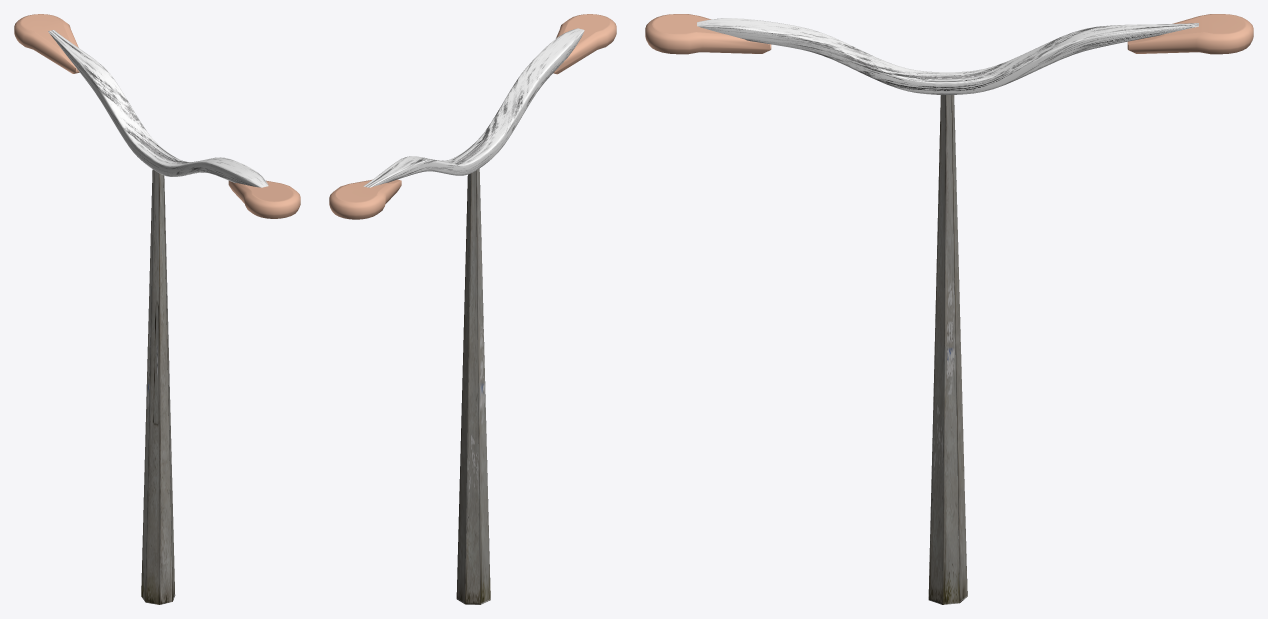
Rendered from light.glb.
3 views of the same model, side by side, from view 1: azimuth 30°, elevation 25°; view 2: azimuth 150°, elevation 25°; view 3: azimuth 270°, elevation 25° (orthographic). The views are drawn at different scales.
Visible parts, largest first — view 1: Poll_4, Light Stend_3, 2 Right Side Light_1, 1 Left side Light_0; view 2: Poll_4, Light Stend_3, 2 Right Side Light_1, 1 Left side Light_0; view 3: Poll_4, Light Stend_3, 2 Right Side Light_1, 1 Left side Light_0.
Part boxes in pixels (bbox=[...]): Poll_4: bbox=[141, 169, 175, 604]; Light Stend_3: bbox=[48, 30, 268, 187]; 2 Right Side Light_1: bbox=[14, 14, 79, 73]; 1 Left side Light_0: bbox=[228, 180, 300, 218]; Poll_4: bbox=[456, 168, 490, 604]; Light Stend_3: bbox=[363, 28, 584, 187]; 2 Right Side Light_1: bbox=[329, 179, 401, 219]; 1 Left side Light_0: bbox=[553, 14, 616, 74]; Poll_4: bbox=[928, 95, 967, 604]; Light Stend_3: bbox=[697, 18, 1198, 94]; 2 Right Side Light_1: bbox=[1127, 14, 1253, 54]; 1 Left side Light_0: bbox=[645, 14, 771, 54].
Bounding box in the file's own units: 3.65 × 37.19 × 35.69.
Materials: 3 (2 with a texture image).
